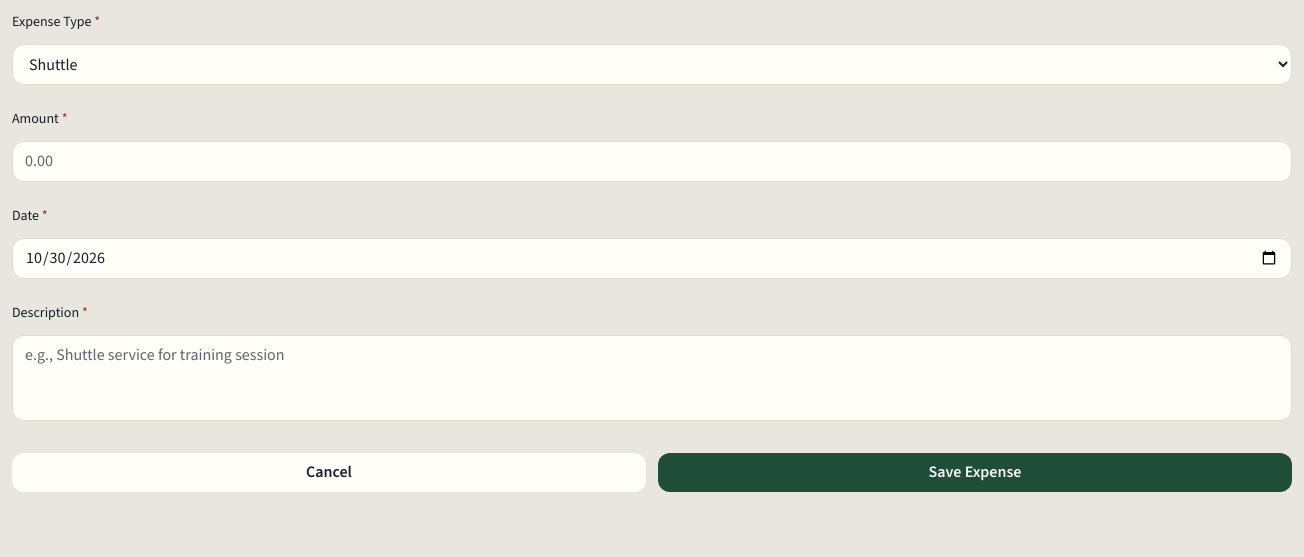
Test: AddExpenseForm › Form Validation › clears error message when user fixes field
This screenshot has width=1304, height=557.
Click the button "Save Expense".
click(975, 473)  # box x1=658 y1=453 x2=1292 y2=492
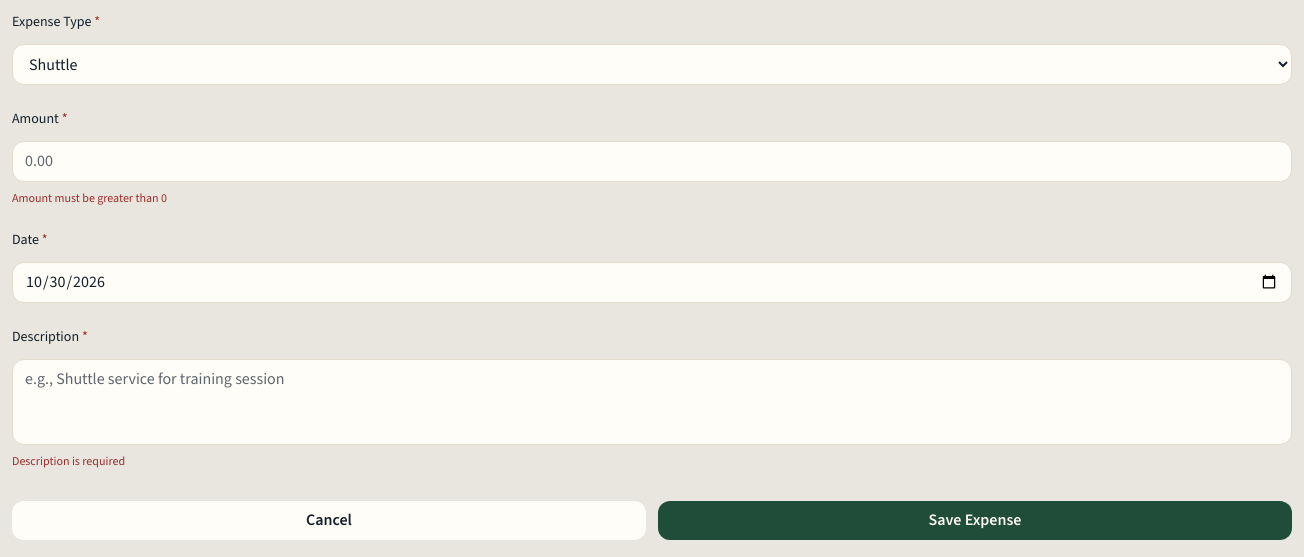
Now the text "Amount must be greater than 0" is shown, box x1=12 y1=190 x2=167 y2=206
Type "100" into the number field labelled "Amount *".
click(652, 161); type("100")  # box x1=12 y1=141 x2=1292 y2=182
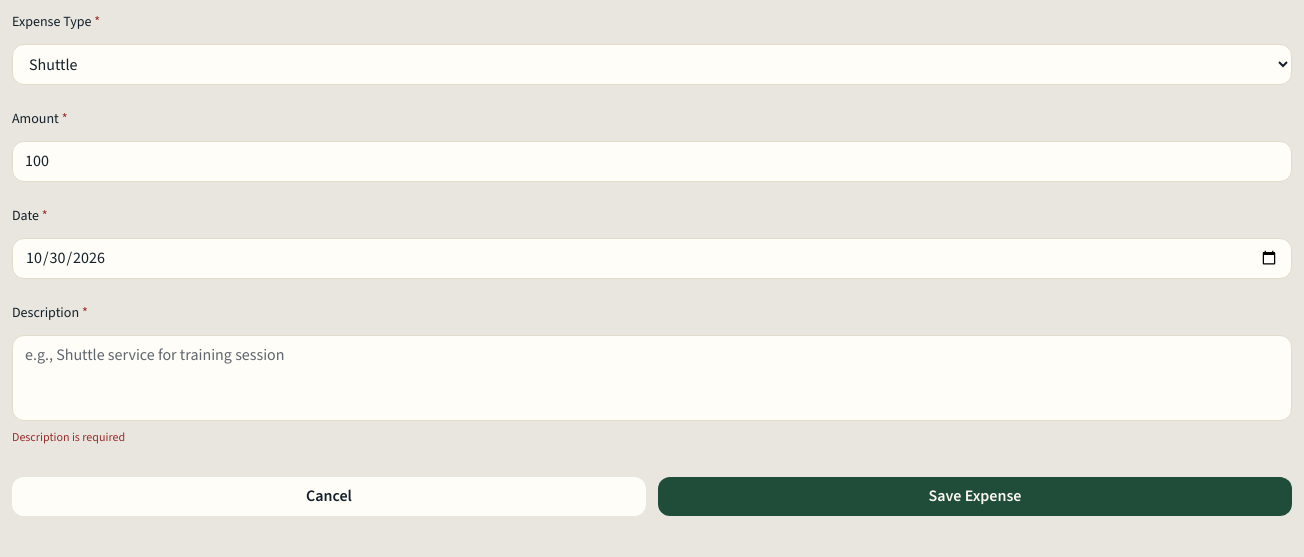
Now the text "Amount must be greater than 0" is gone
